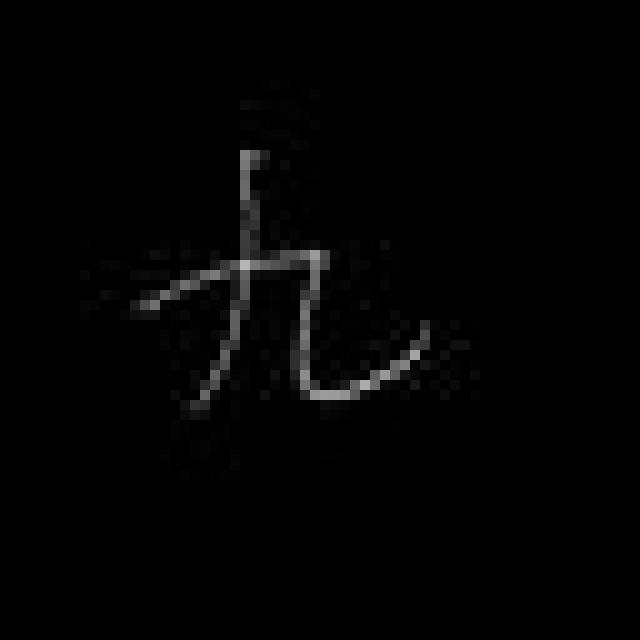9 -nine-: (134, 141, 434, 412)
